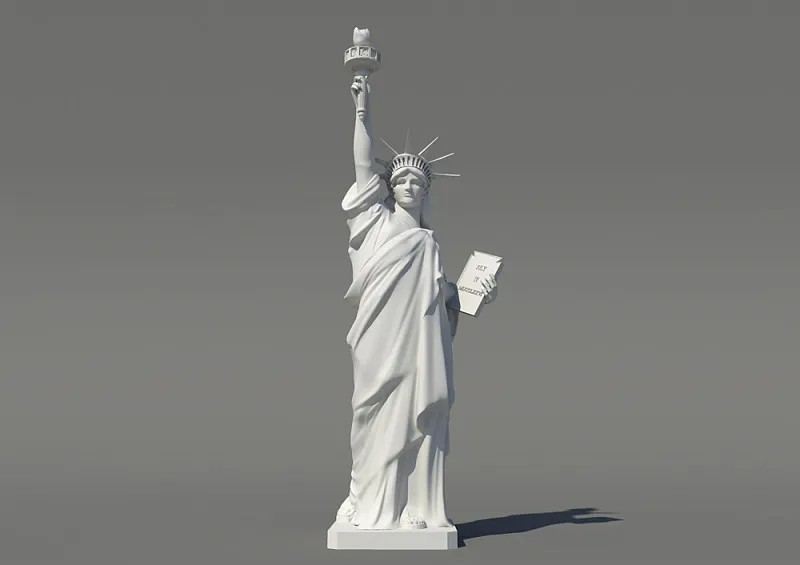SL: (327, 26, 504, 552)
